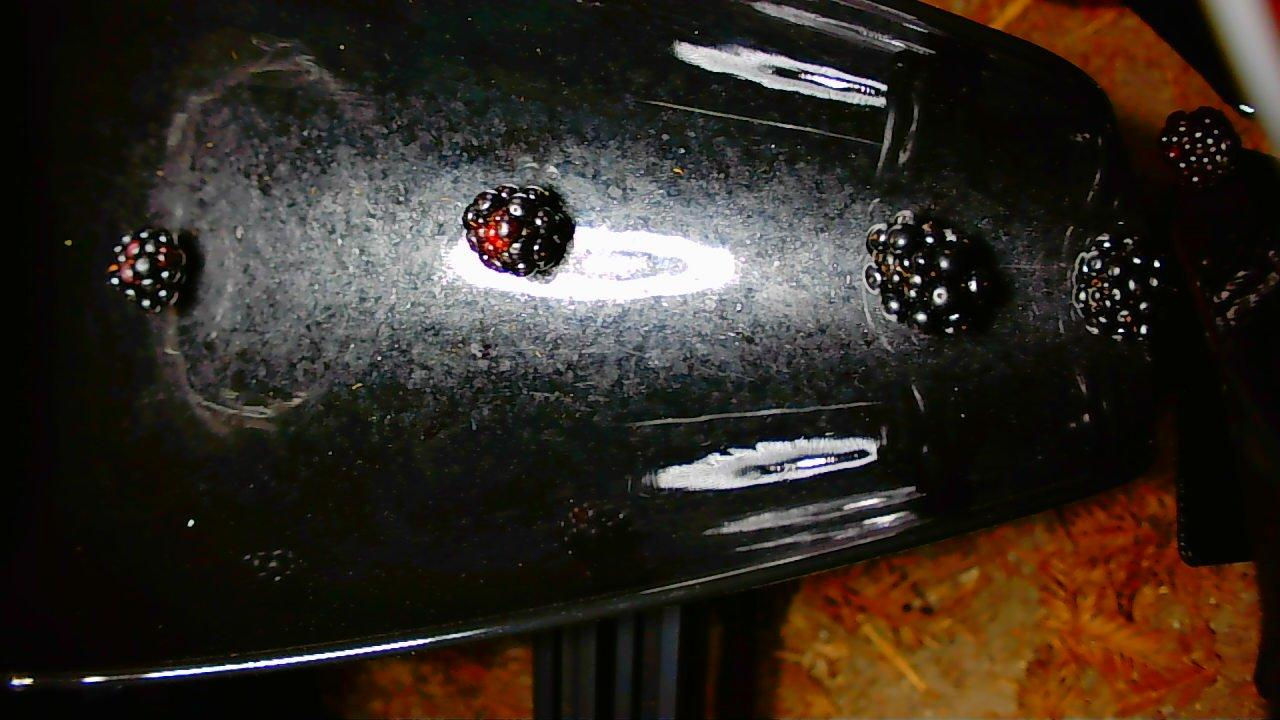berry: (864, 211, 995, 333), (462, 185, 575, 276), (1072, 233, 1162, 339), (1159, 106, 1240, 189), (107, 228, 186, 312), (1211, 251, 1279, 328)
